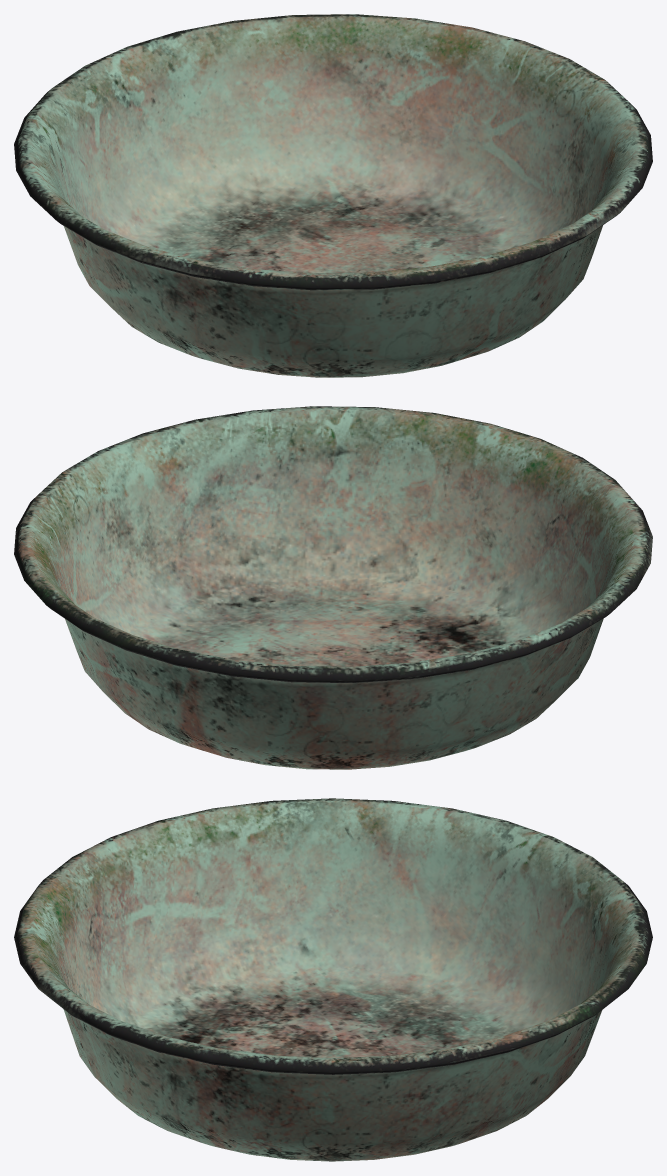
The model's file is bowl.glb.
3 renders of one model, top to bottom at view 1: azimuth 30°, elevation 25°; view 2: azimuth 150°, elevation 25°; view 3: azimuth 270°, elevation 25°, orthographic.
Parts seen in each view (by area): view 1: Bowl_LP; view 2: Bowl_LP; view 3: Bowl_LP.
Part boxes in pixels (box(x1,y1,x2,y2)): Bowl_LP: box(14, 14, 652, 377); Bowl_LP: box(14, 406, 652, 769); Bowl_LP: box(14, 798, 652, 1161).
Bounding box in the file's own units: 1.09 × 0.2635 × 1.09.
Materials: 1 (1 with a texture image).
